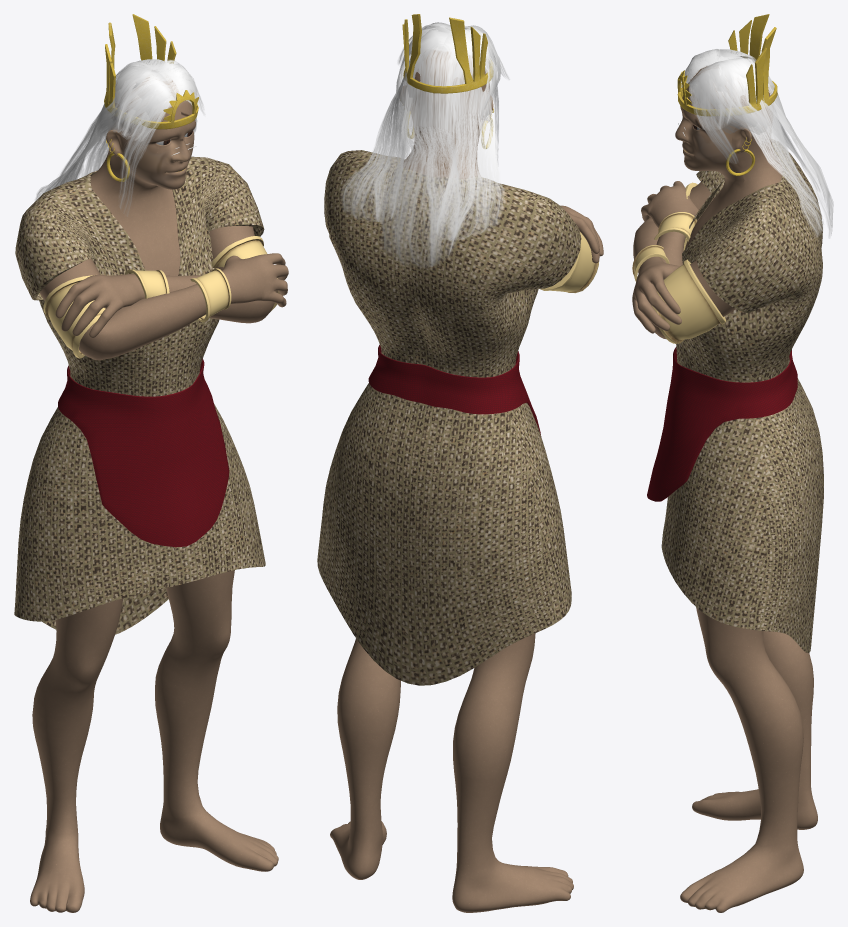
Rendered from zipav2.gltf.
3 views of the same model, side by side, from view 1: azimuth 30°, elevation 25°; view 2: azimuth 150°, elevation 25°; view 3: azimuth 270°, elevation 25° (orthographic). The views are drawn at different scales.
Visible parts, largest first — view 1: polySurface40; view 2: polySurface40; view 3: polySurface40.
Part boxes in pixels (<box>): polySurface40: <box>14,14,288,912</box>; polySurface40: <box>317,14,603,912</box>; polySurface40: <box>632,14,833,912</box>.
Bounding box in the file's own units: 0.0564 × 0.1896 × 0.0415.
9 materials, 8 textured.
